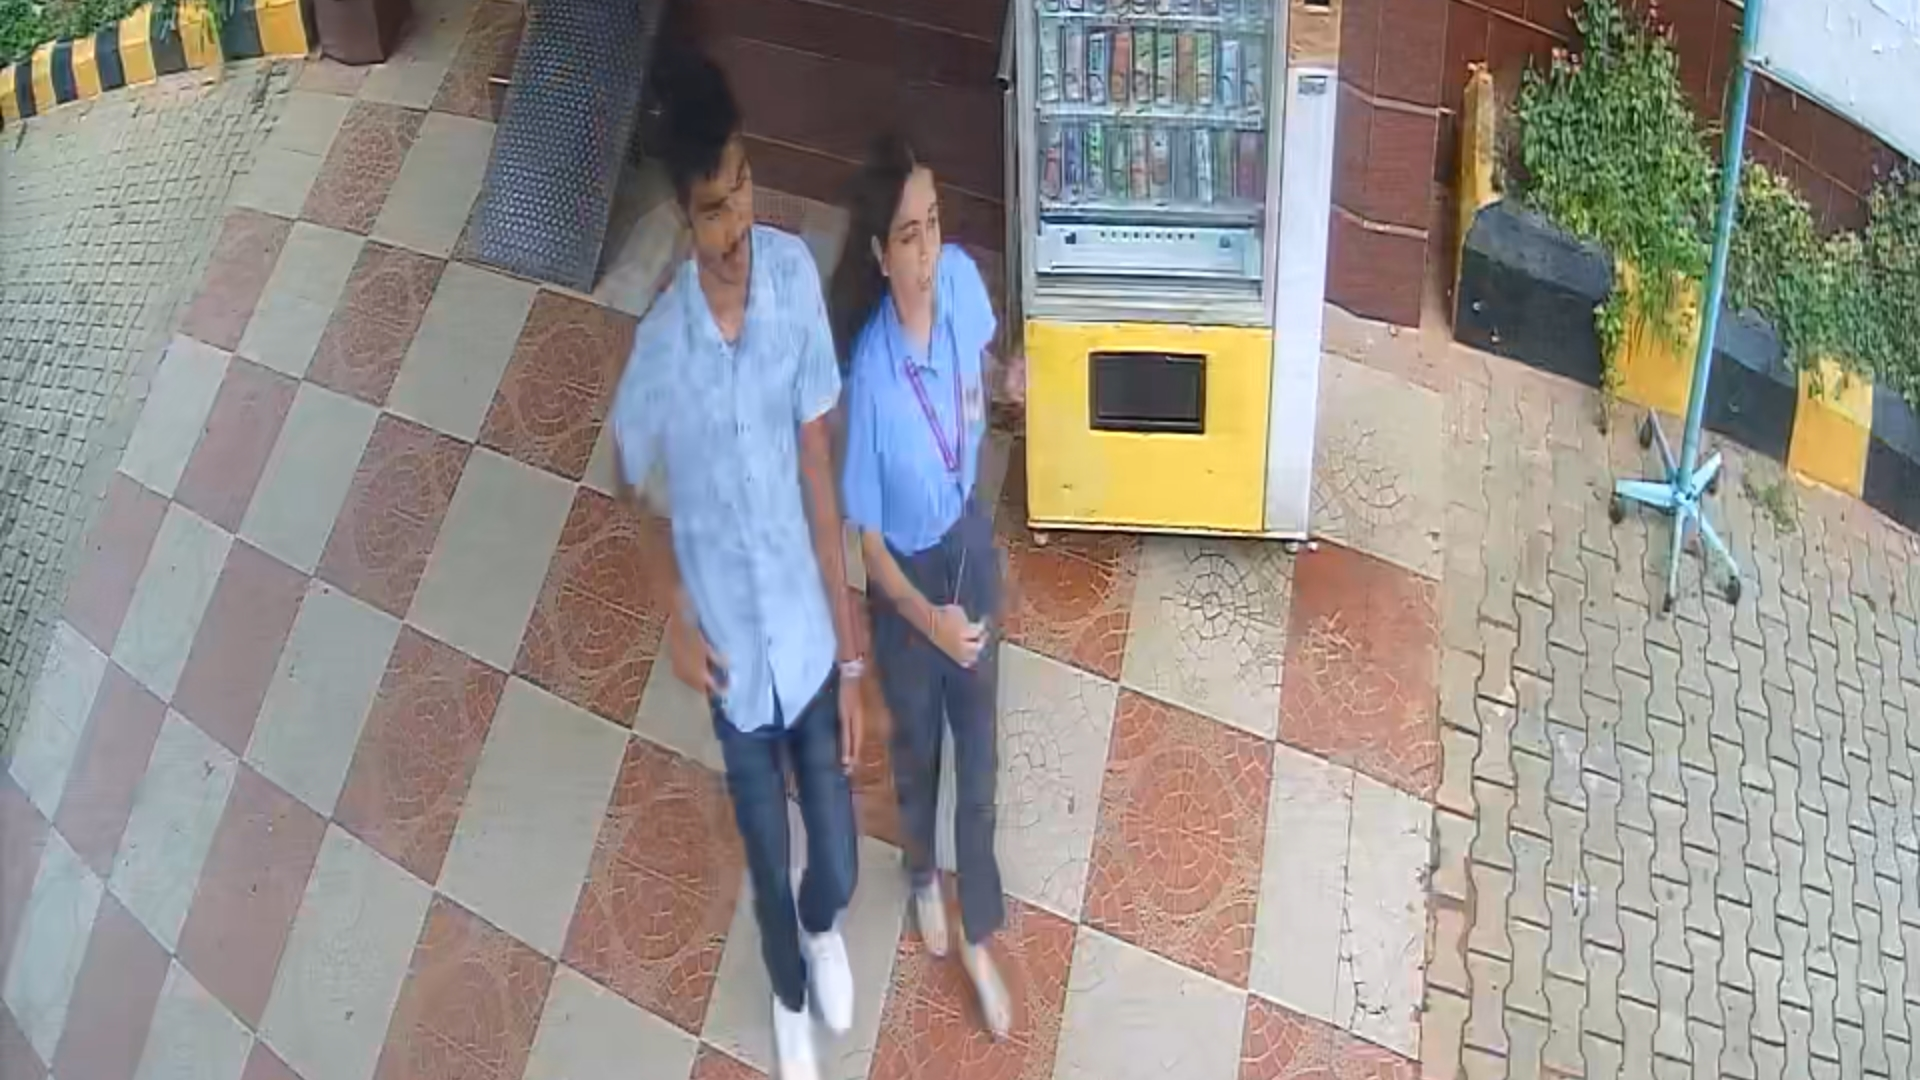intruder: (608, 41, 884, 1036)
not intruder: (836, 113, 1036, 1054)
